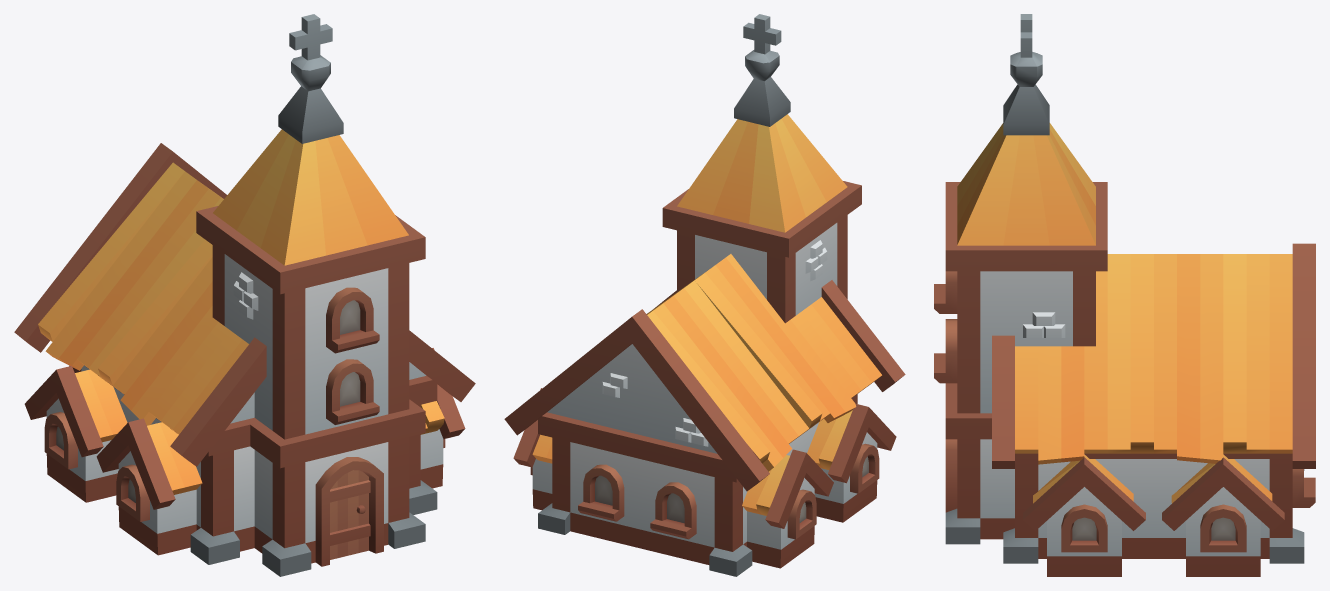
Rendered from building_church_yellow.glb.
3 views of the same model, side by side, from view 1: azimuth 30°, elevation 25°; view 2: azimuth 150°, elevation 25°; view 3: azimuth 270°, elevation 25° (orthographic). The views are drawn at different scales.
Visible parts, largest first — view 1: building_church_yellow; view 2: building_church_yellow; view 3: building_church_yellow.
Part boxes in pixels (bbox=[...]): building_church_yellow: bbox=[14, 14, 475, 576]; building_church_yellow: bbox=[504, 14, 905, 576]; building_church_yellow: bbox=[934, 14, 1315, 576].
Bounding box in the file's own units: 1.03 × 1.65 × 1.16.
Materials: 1 (1 with a texture image).
